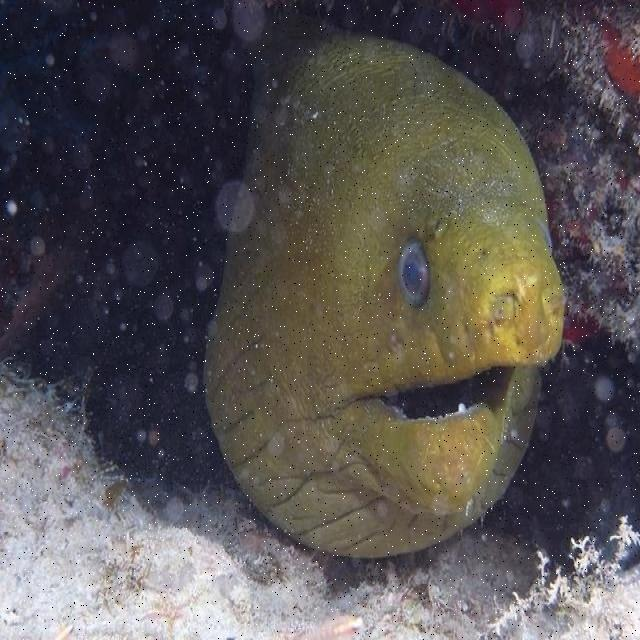fish: (203, 29, 564, 557)
